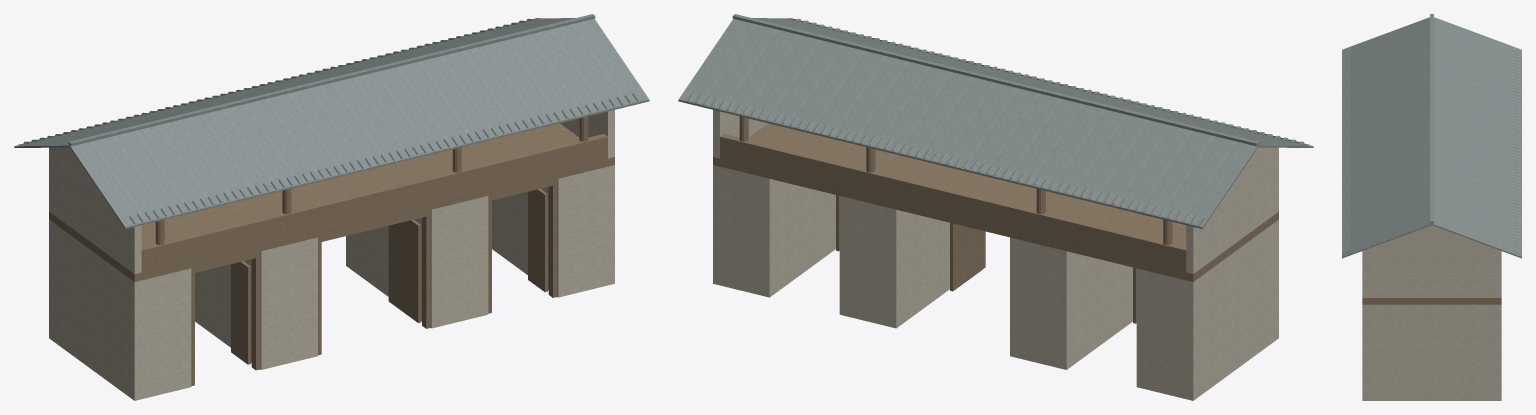
The picture shows the model from 3 angles, left to right: view 1: azimuth 30°, elevation 25°; view 2: azimuth 150°, elevation 25°; view 3: azimuth 270°, elevation 25°; orthographic projection. The views are drawn at different scales.
Visible parts, largest first — view 1: gu-G-static_tile, gu-G-static_earth, gu-G-static_timber; view 2: gu-G-static_earth, gu-G-static_tile, gu-G-static_timber; view 3: gu-G-static_tile, gu-G-static_earth, gu-G-static_timber.
Boxes of the visible parts, x1=… form: gu-G-static_tile: x1=14, y1=14, x2=649, y2=229; gu-G-static_earth: x1=49, y1=110, x2=614, y2=400; gu-G-static_timber: x1=49, y1=116, x2=614, y2=386; gu-G-static_earth: x1=713, y1=110, x2=1278, y2=400; gu-G-static_tile: x1=678, y1=14, x2=1313, y2=229; gu-G-static_timber: x1=713, y1=116, x2=1278, y2=323; gu-G-static_tile: x1=1342, y1=14, x2=1521, y2=258; gu-G-static_earth: x1=1362, y1=225, x2=1501, y2=400; gu-G-static_timber: x1=1362, y1=298, x2=1501, y2=304.
Size of the model in its own units: 24 by 10.16 by 8.8.
3 materials, 3 textured.
